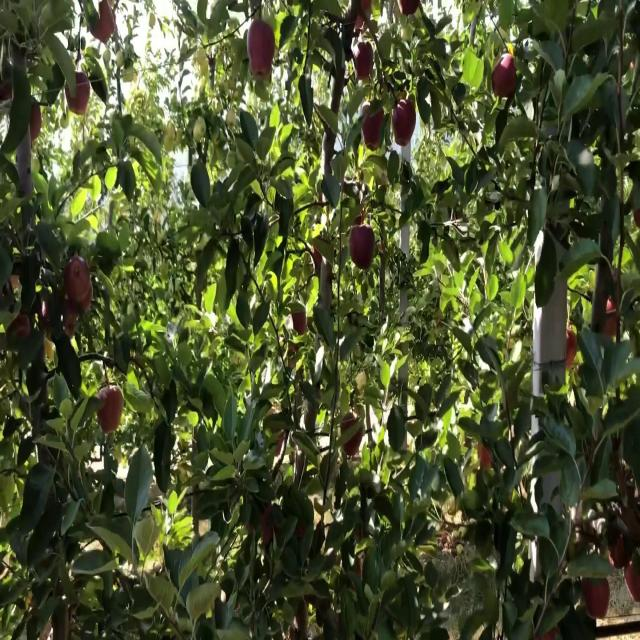apple: (612, 504, 640, 572), (248, 21, 278, 73), (348, 220, 376, 270), (64, 263, 93, 311), (64, 71, 92, 119), (392, 99, 417, 149), (616, 504, 640, 555), (492, 56, 519, 101), (96, 391, 124, 434), (612, 526, 636, 571), (364, 106, 386, 153), (584, 583, 611, 620), (92, 7, 116, 44), (356, 42, 376, 84), (344, 419, 364, 457), (256, 504, 274, 546), (612, 533, 631, 571), (8, 312, 32, 341), (260, 504, 274, 546), (64, 305, 80, 341), (628, 561, 640, 604), (568, 327, 579, 372), (604, 312, 620, 341), (32, 106, 44, 144), (40, 298, 53, 332), (400, 0, 421, 20), (292, 312, 308, 336), (352, 14, 367, 39), (312, 248, 326, 274), (312, 248, 326, 274), (0, 78, 13, 105), (480, 447, 493, 471), (8, 277, 21, 295), (636, 213, 640, 229)
